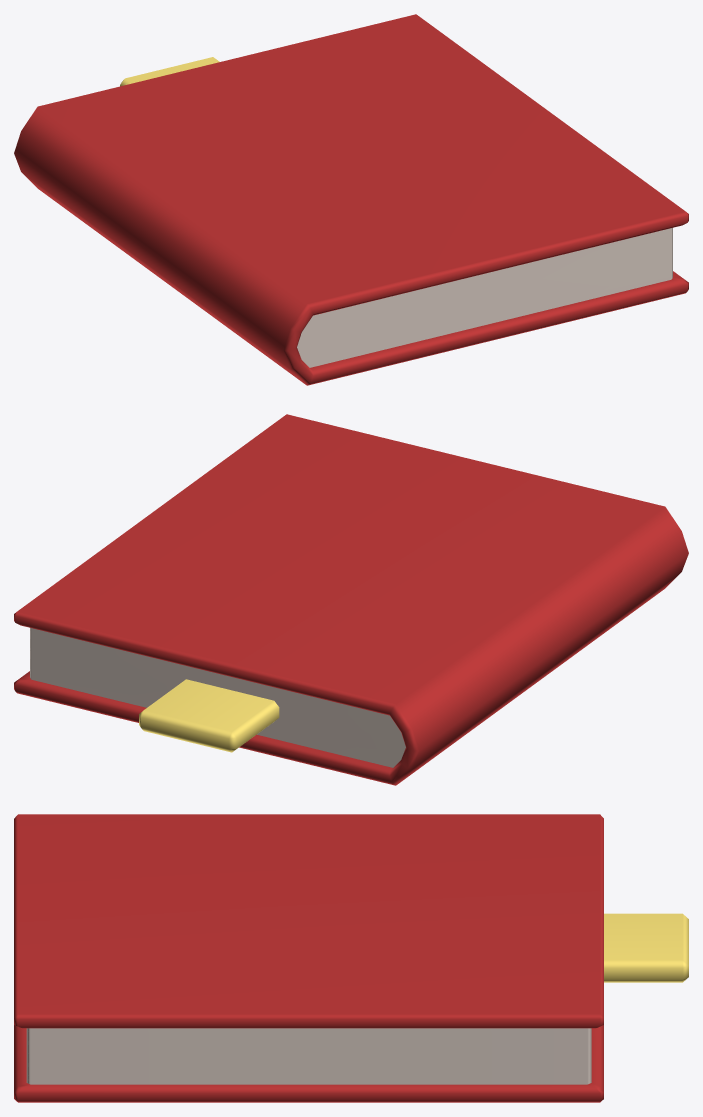
File: Book_22.glb
The picture shows the model from 3 angles, top to bottom: view 1: azimuth 30°, elevation 25°; view 2: azimuth 150°, elevation 25°; view 3: azimuth 270°, elevation 25°; orthographic projection. The views are drawn at different scales.
Visible parts, largest first — view 1: Book_22; view 2: Book_22; view 3: Book_22.
Boxes of the visible parts, x1=… form: Book_22: x1=14, y1=14, x2=688, y2=385; Book_22: x1=14, y1=414, x2=688, y2=785; Book_22: x1=14, y1=814, x2=688, y2=1102.
Size of the model in its own units: 0.1865 by 0.036 by 0.2489.
1 material, 1 textured.
